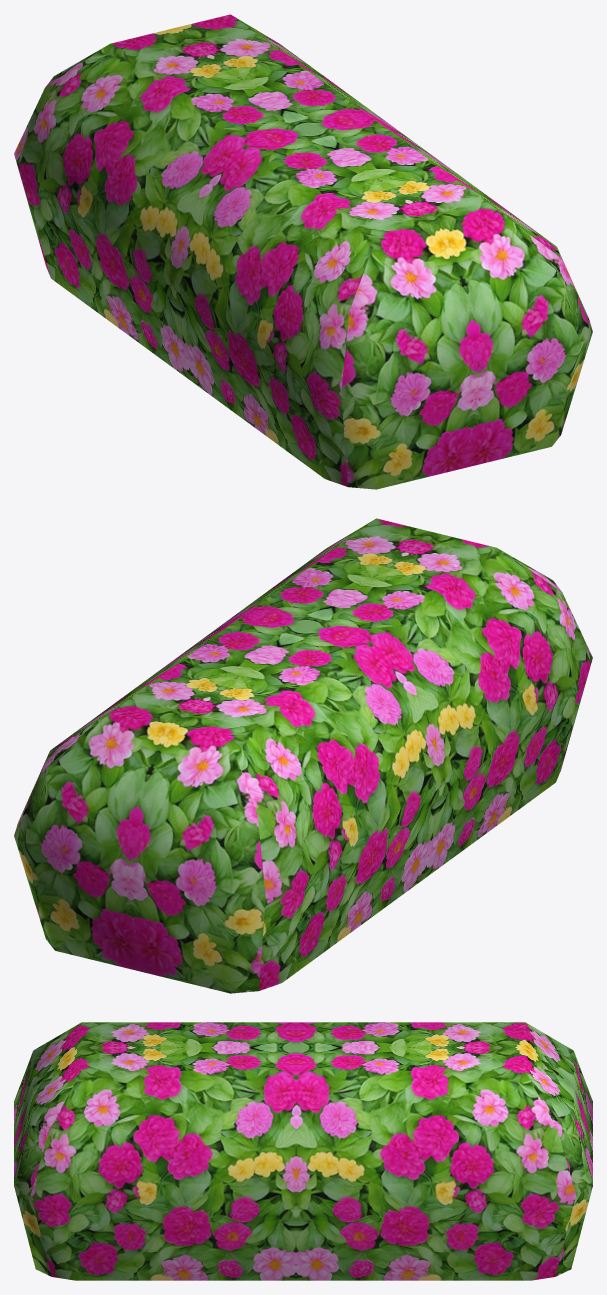
The model's file is VEG0310037.fbx.
The picture shows the model from 3 angles, top to bottom: view 1: azimuth 30°, elevation 25°; view 2: azimuth 150°, elevation 25°; view 3: azimuth 270°, elevation 25°; orthographic projection. The views are drawn at different scales.
Visible parts, largest first — view 1: smVEG0310037; view 2: smVEG0310037; view 3: smVEG0310037.
Part boxes in pixels (left/top/right/bottom): smVEG0310037: left=14, top=14, right=592, bottom=489; smVEG0310037: left=14, top=518, right=592, bottom=993; smVEG0310037: left=14, top=1022, right=592, bottom=1280.
Bounding box in the file's own units: 57.09 × 44.78 × 126.
1 material, 1 textured.
